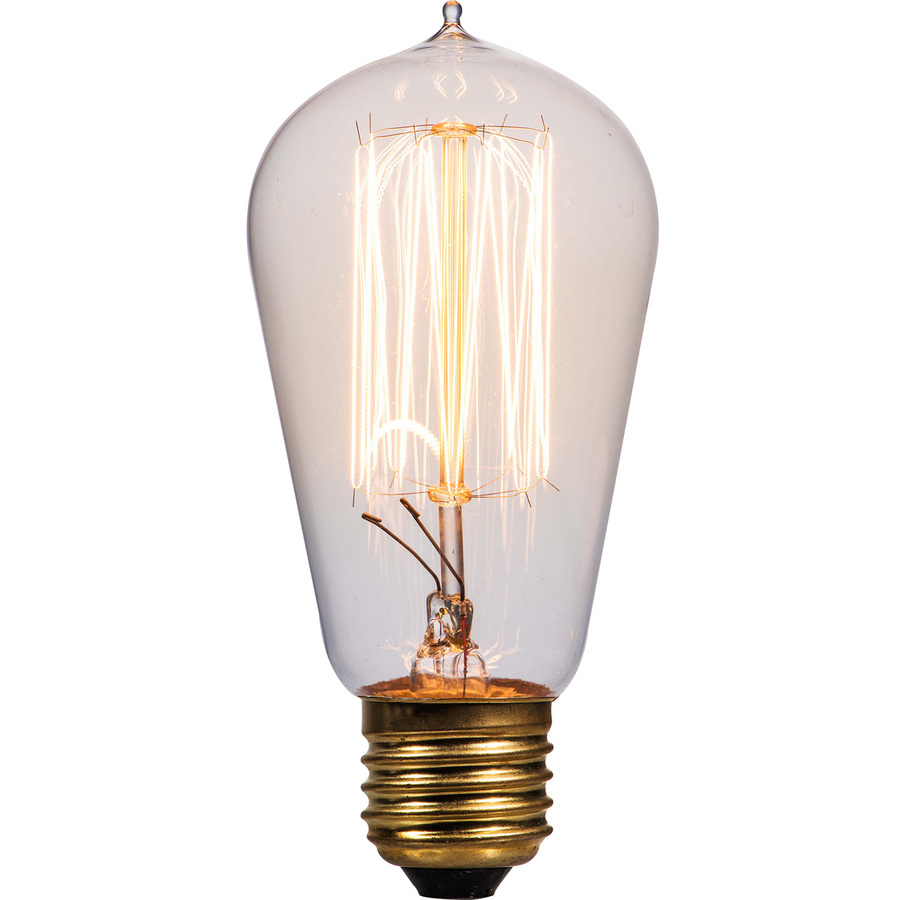Nonrec_Glass: (228, 1, 658, 895)
